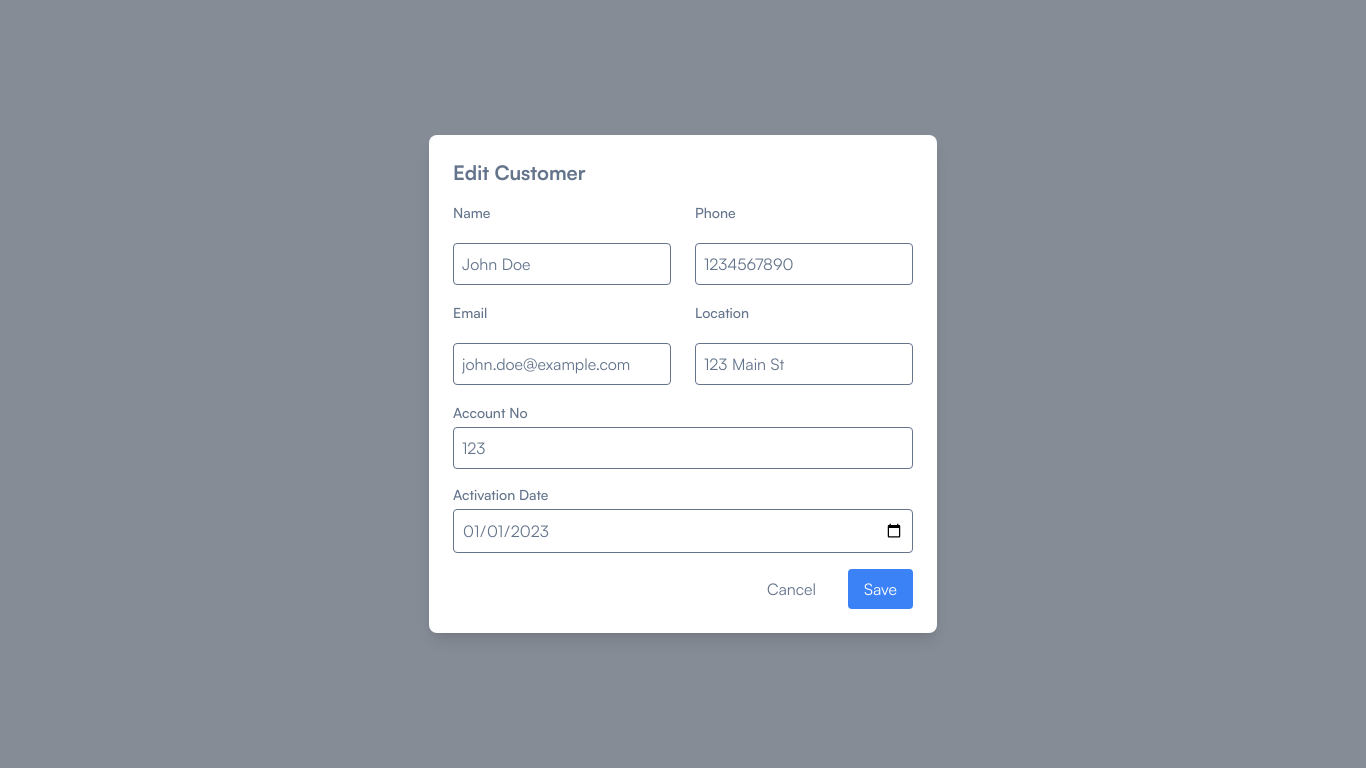
Test: EditModal › displays validation errors for invalid data
Clear the field labelled "Name" at (562, 264), box [453,243,671,285]
Clear the field labelled "Phone" at (804, 264), box [695,243,913,285]
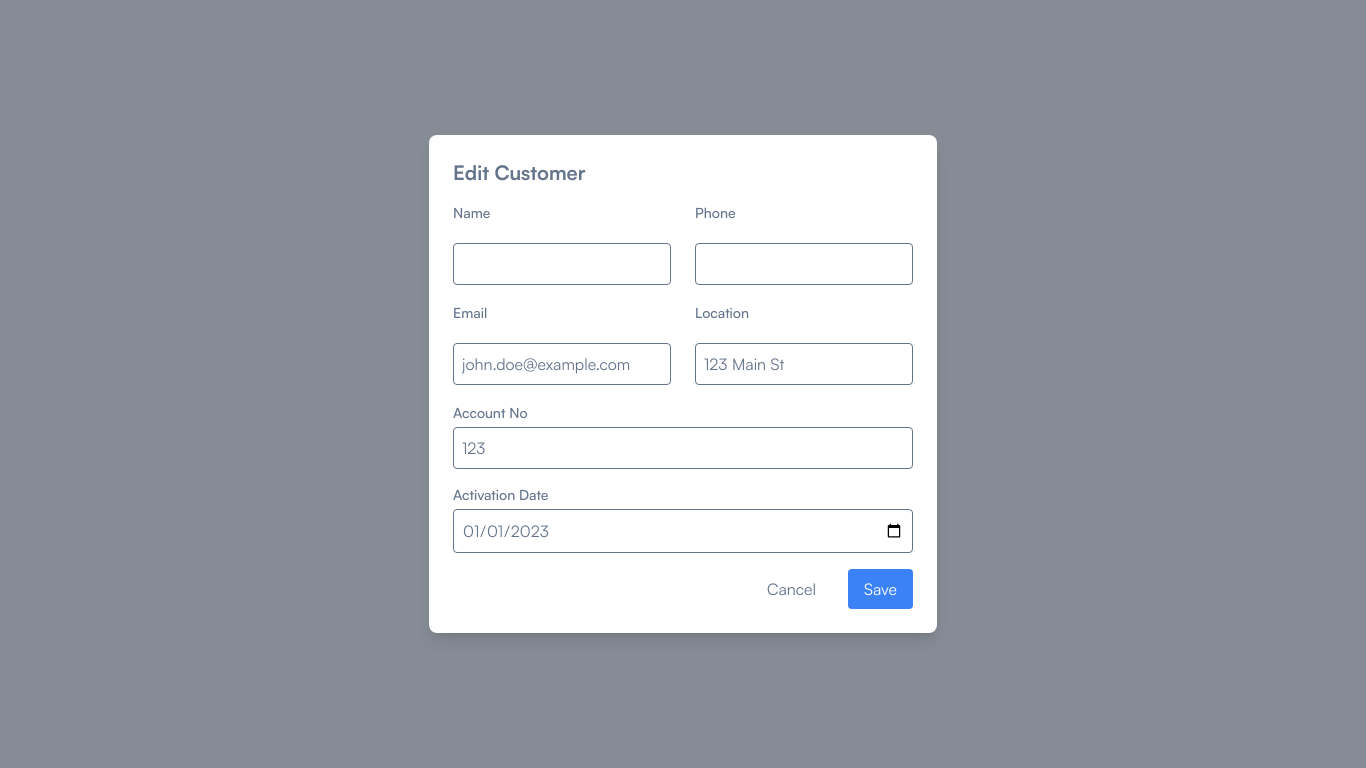
Replace the text in the field labelled "Email" with "invalid-email" at (562, 364), box [453,343,671,385]
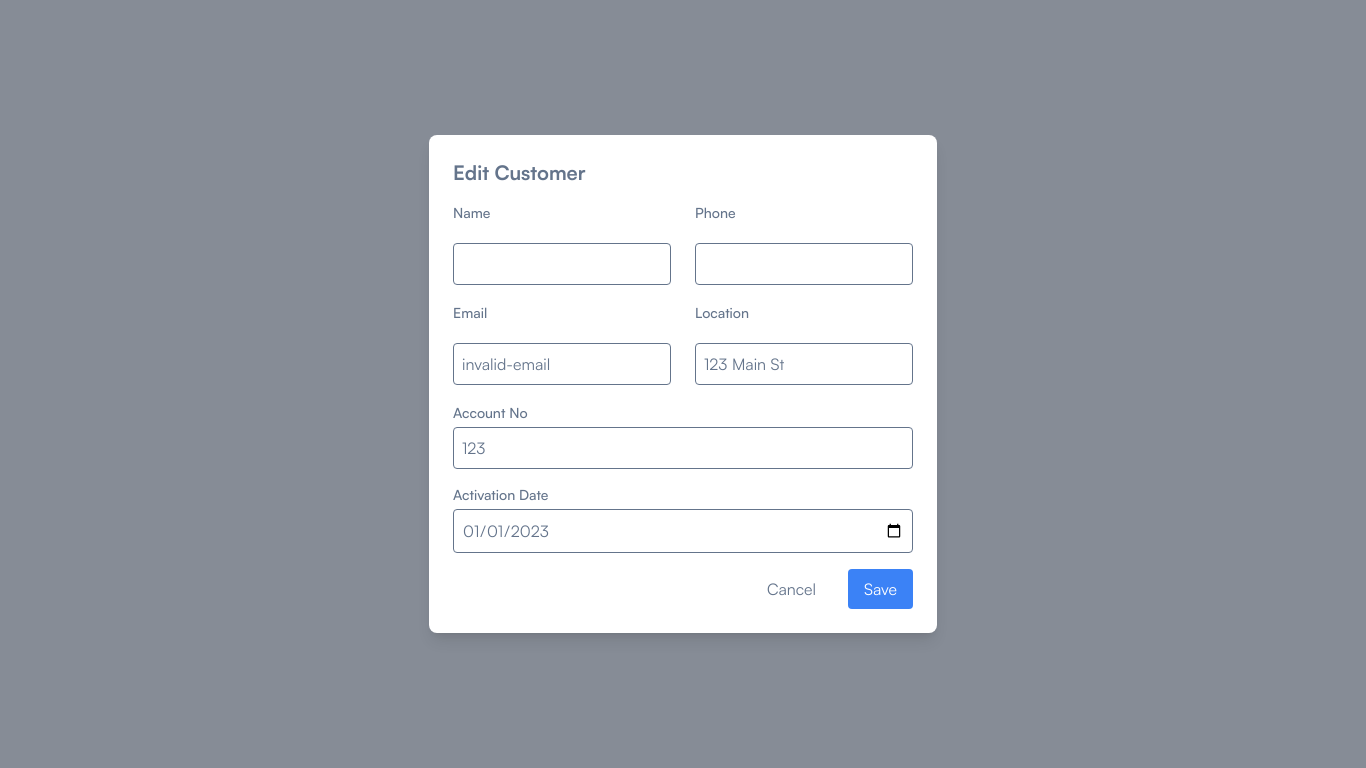
Clear the field labelled "Location" at (804, 364), box [695,343,913,385]
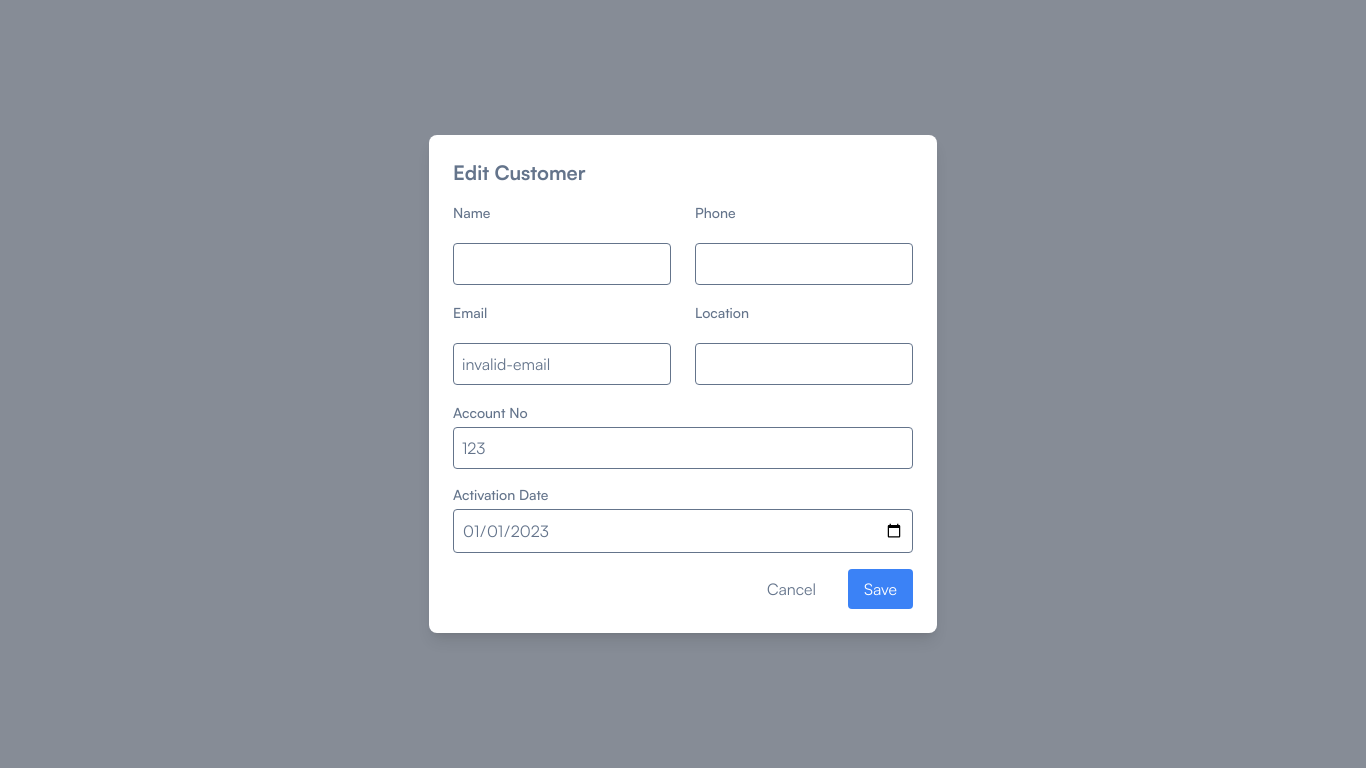
Clear the number field labelled "Account No" at (683, 448), box [453,427,913,469]
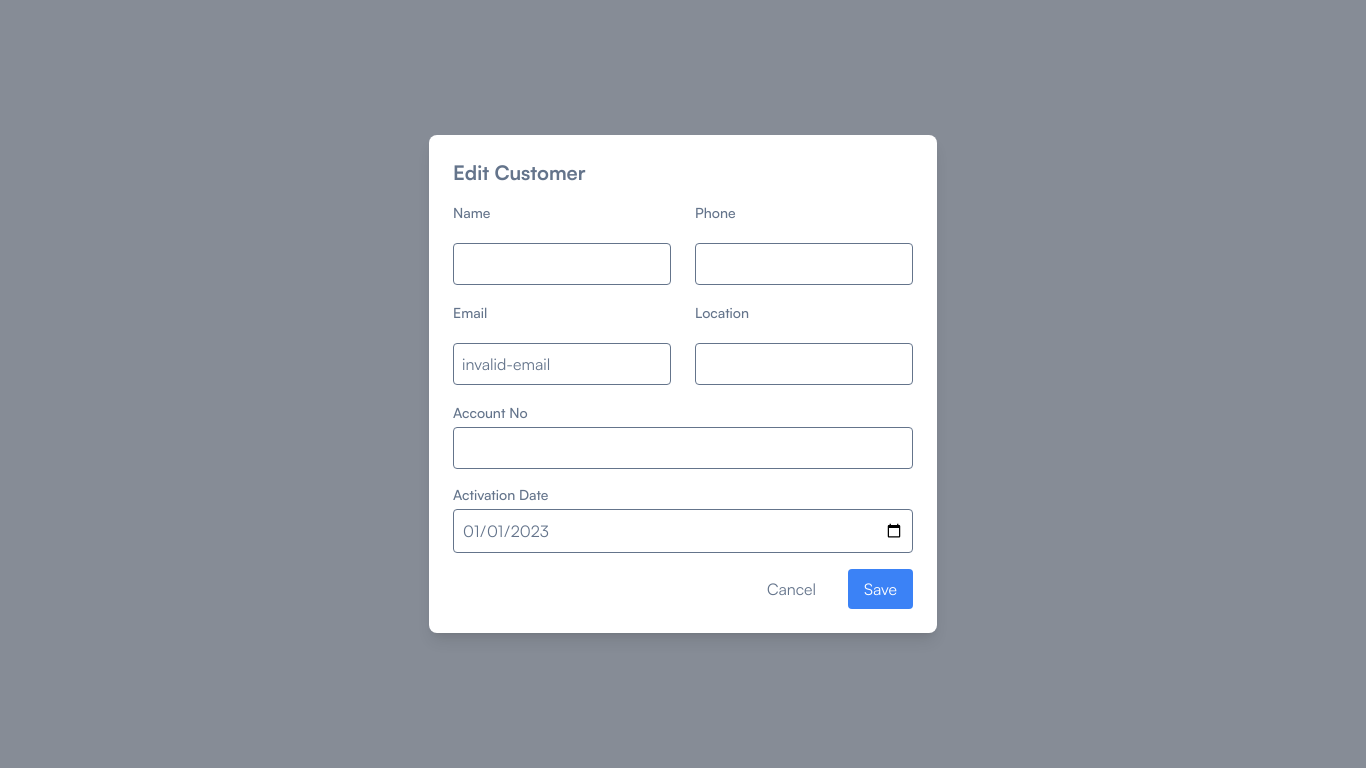
Clear the date field labelled "Activation Date" at (683, 531), box [453,509,913,553]
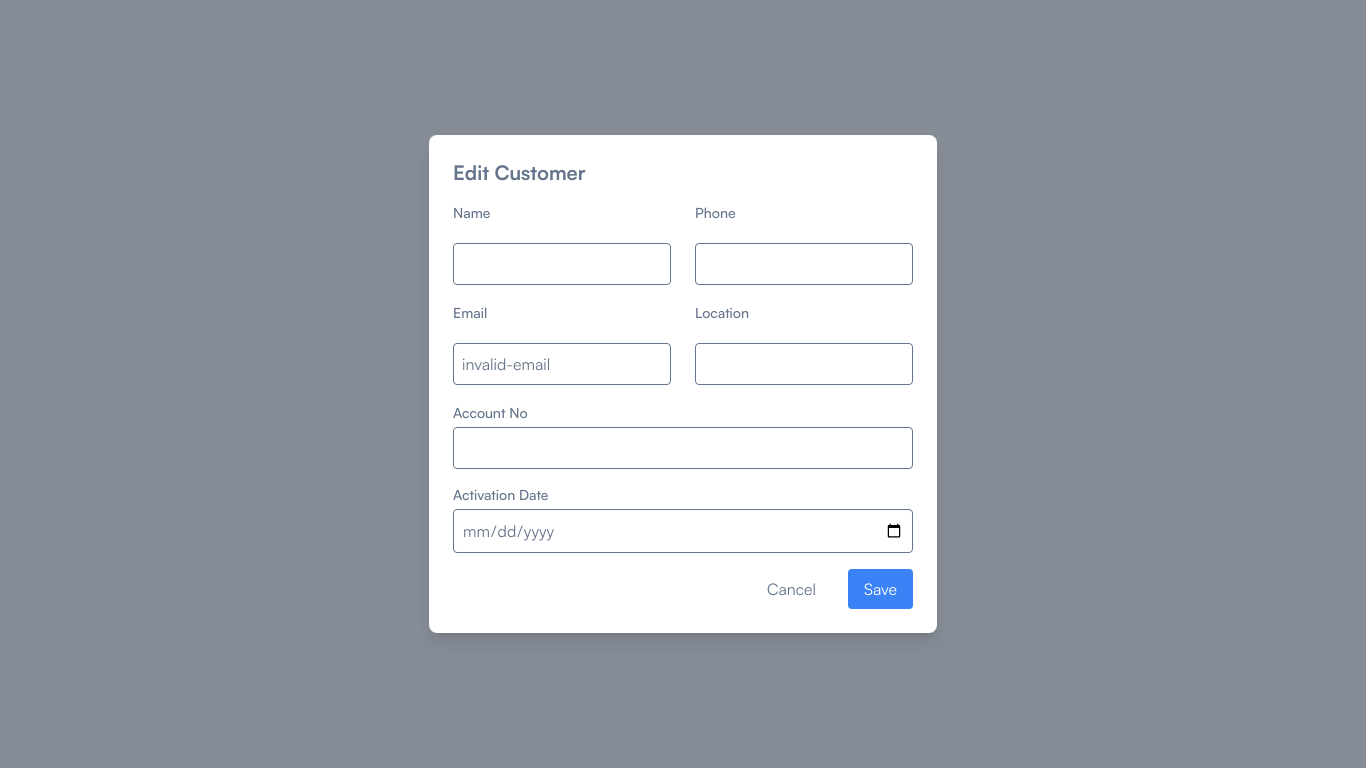
Submit the form from the button "Save", box [848,569,913,609]
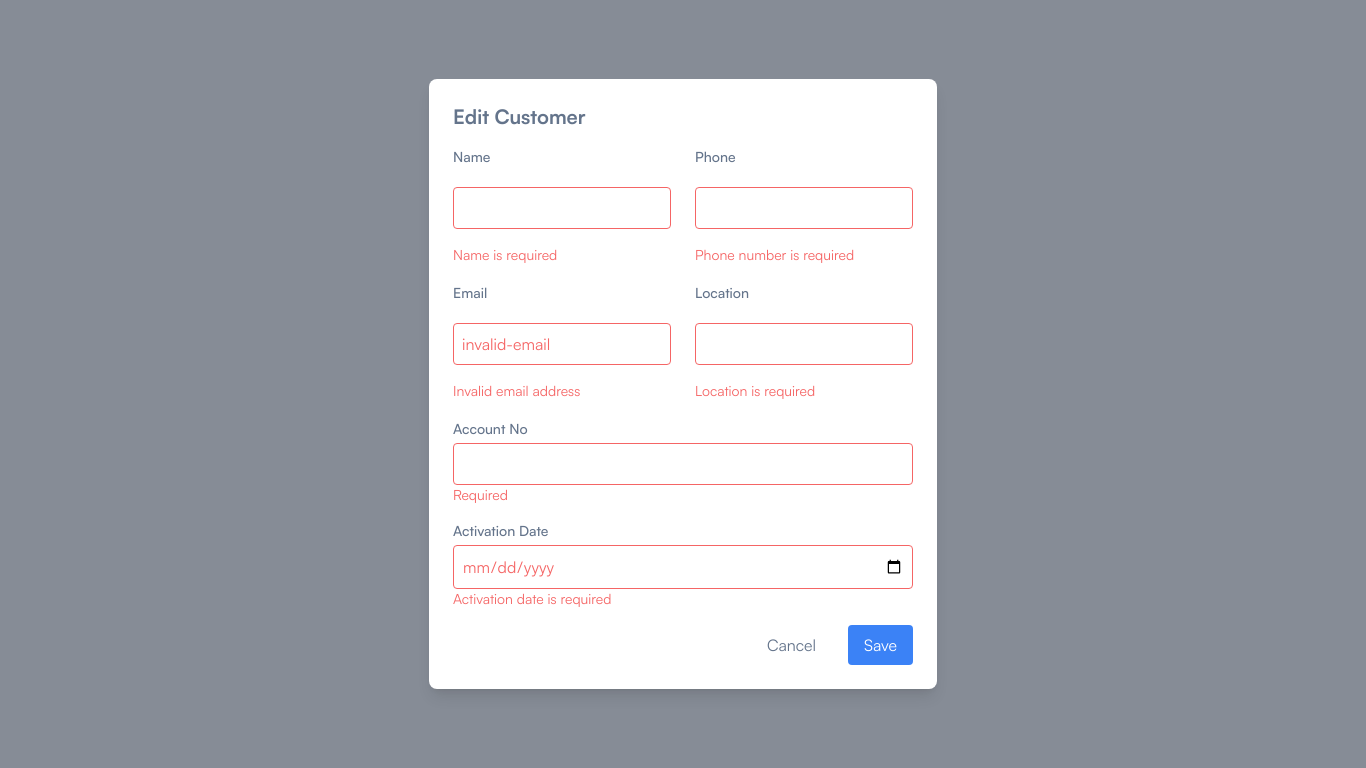
Now the text "Name is required" is shown, box [453,246,557,263]
Now the text "Phone number is required" is shown, box [695,246,854,263]
Now the text "Invalid email address" is shown, box [453,382,580,399]
